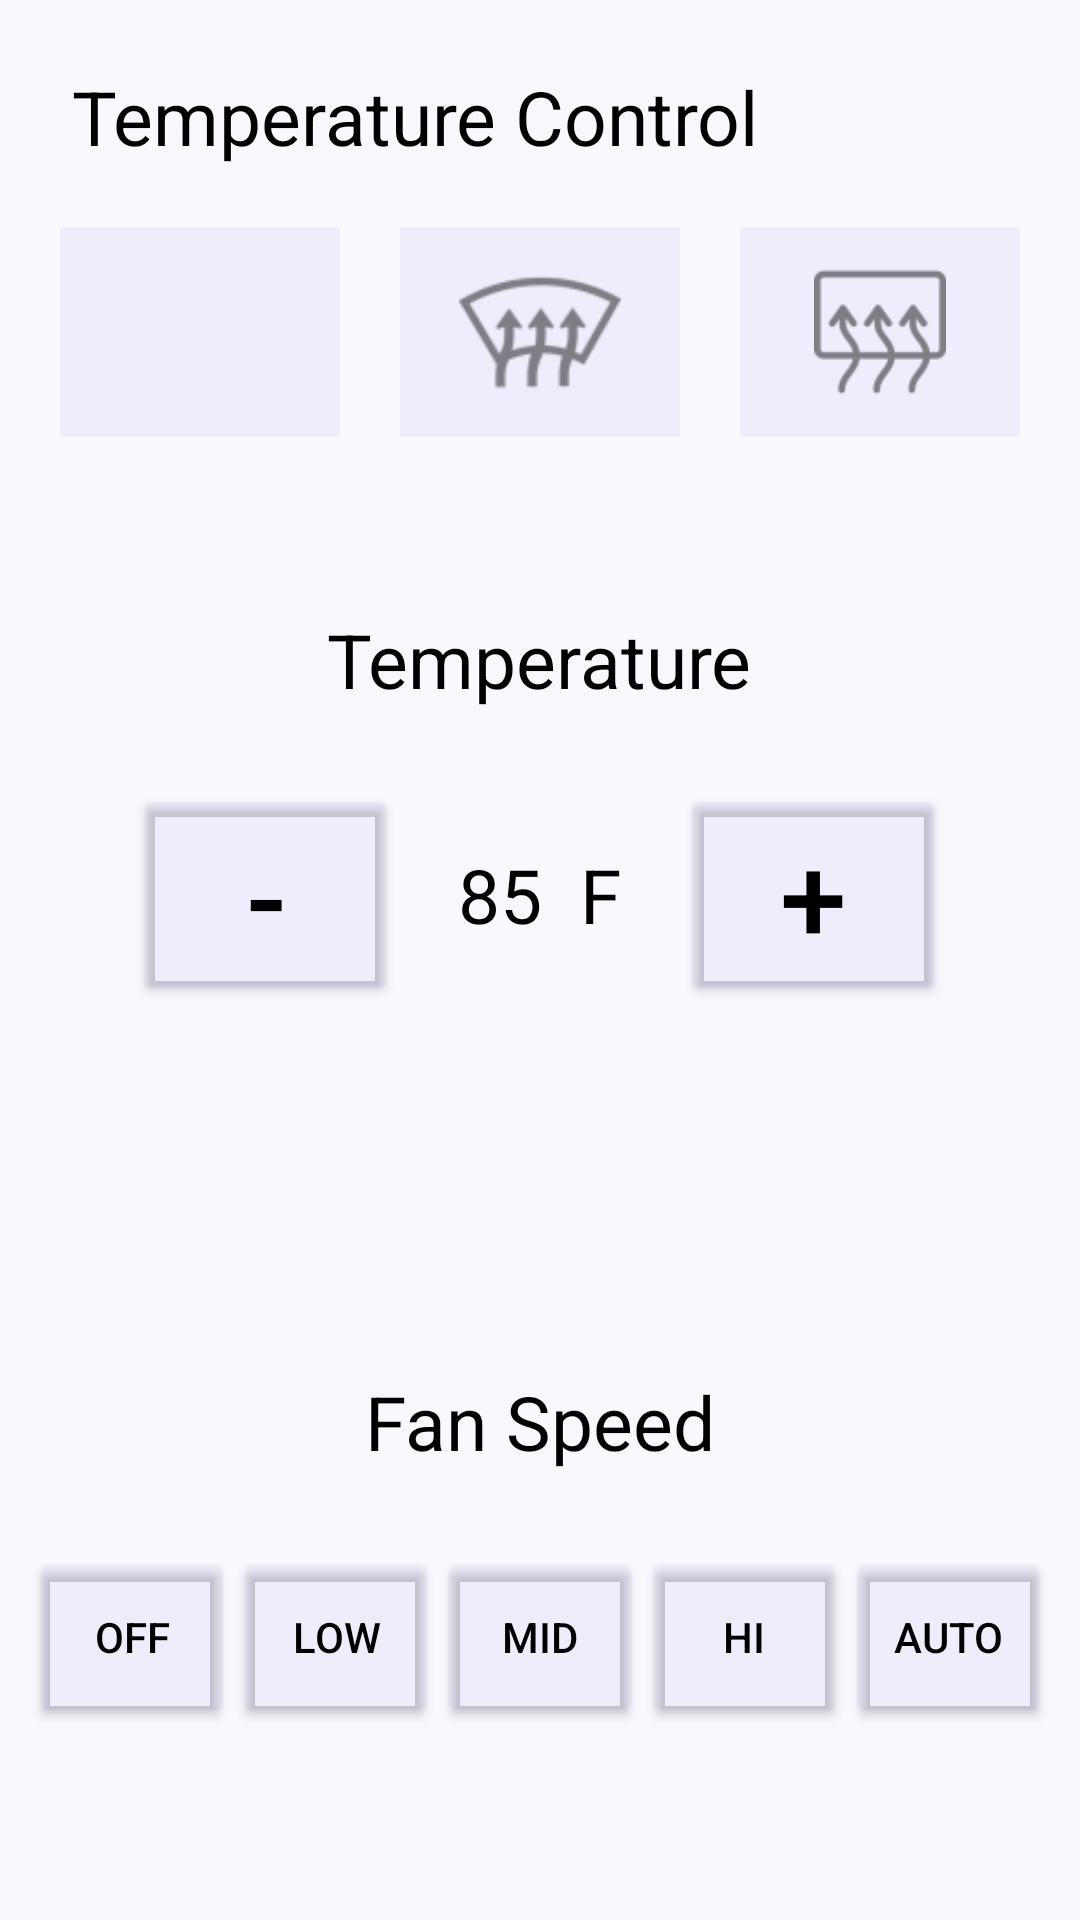

Locate icon controls on the screen. Image size 1080px×1920px, boxes as (x1, y1, x2, y2).
back fan: (740, 227, 1020, 437)
front fan: (400, 227, 680, 437)
